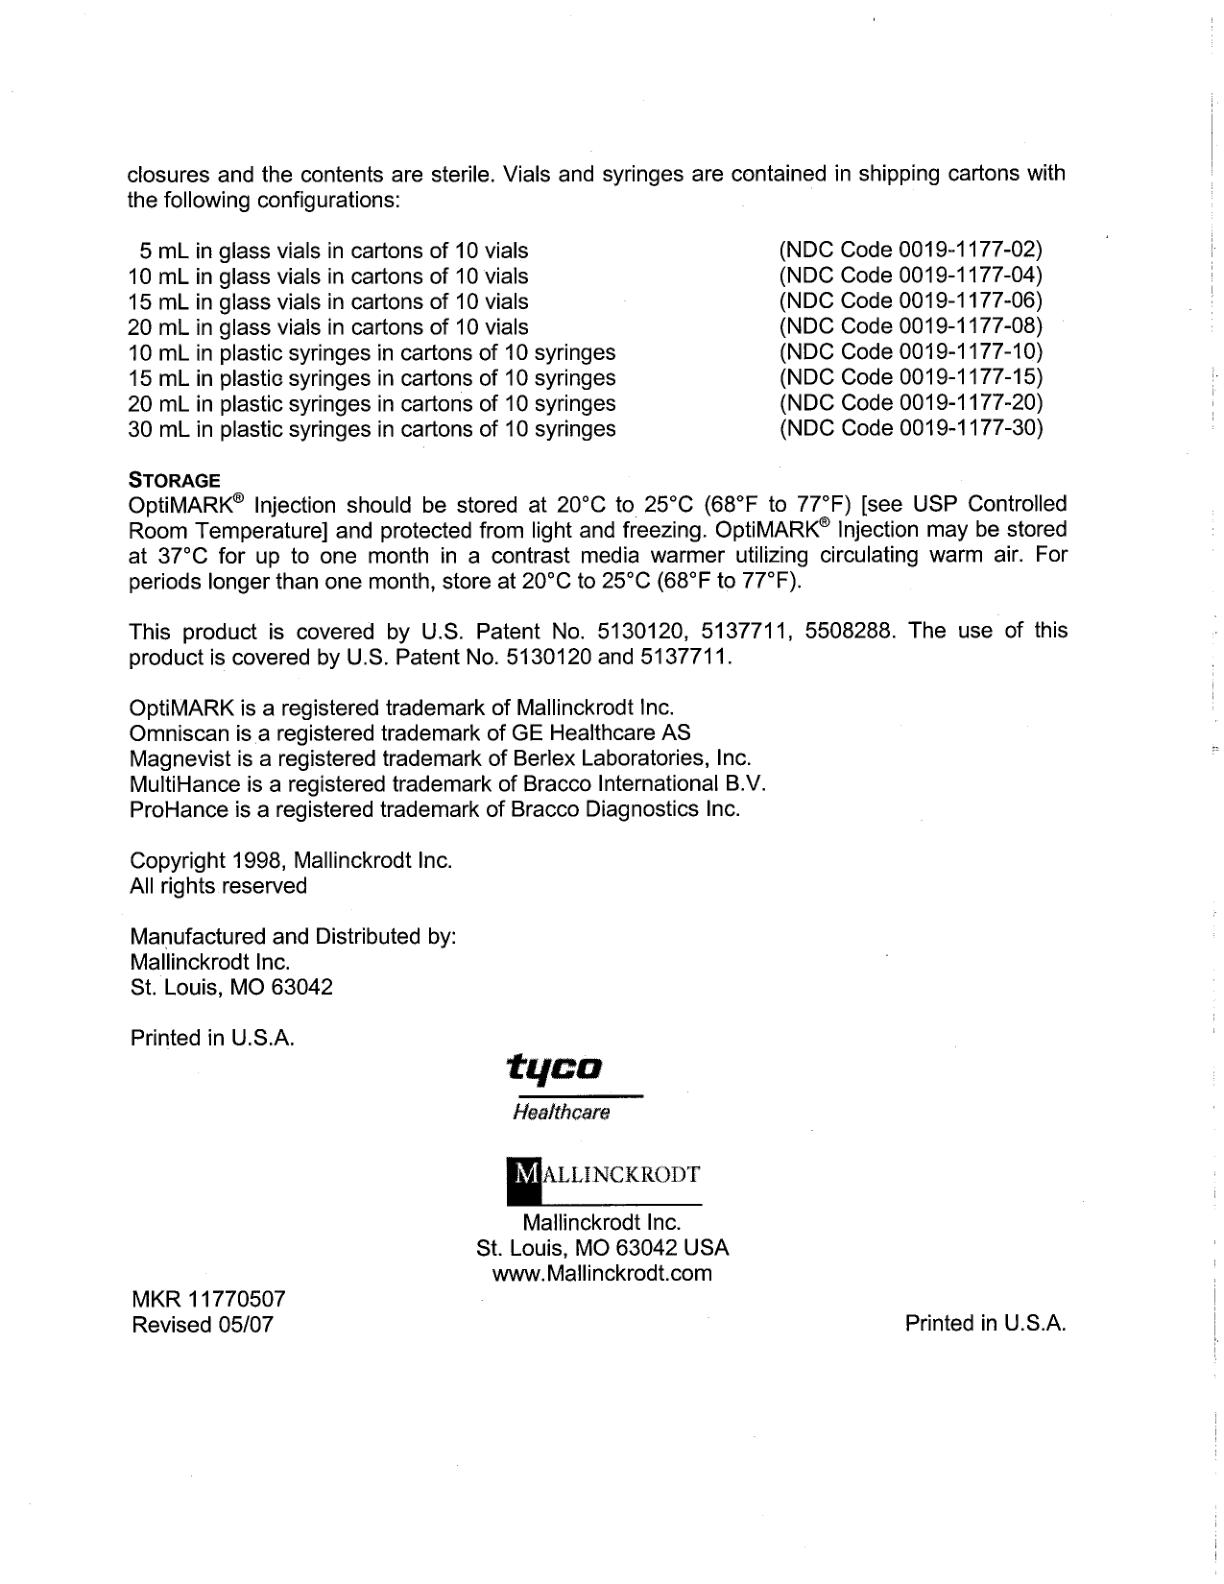nolines: (126, 237, 1047, 442)
